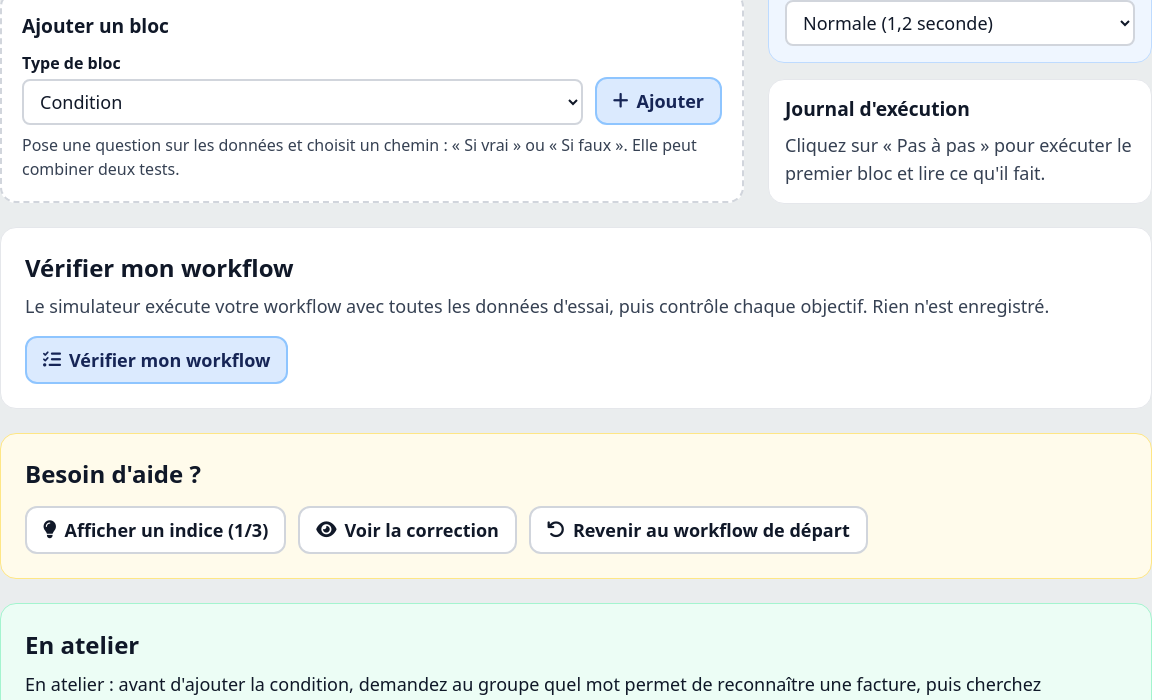
Test case: lecteur de laboratoire › indique les objectifs à revoir avec du texte, pas seulement une couleur
(page scrolled)
Click the button with test id "verifier" at coordinates (157, 360), box [25, 336, 288, 384]
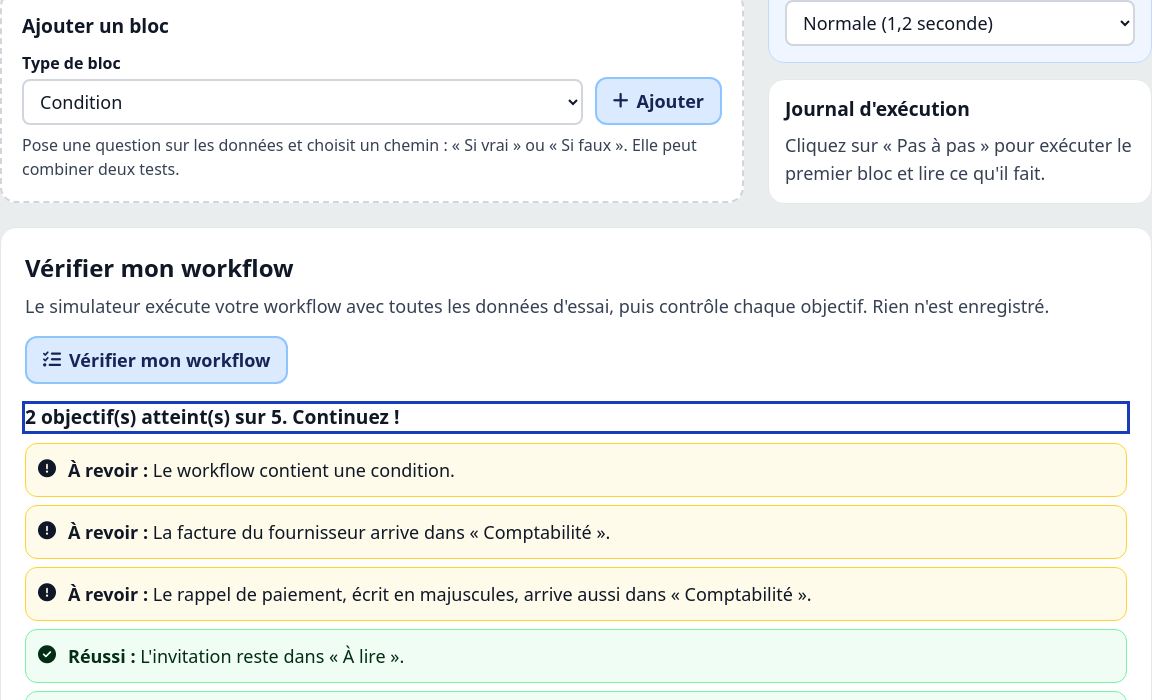
Now the list item with test id "critere-condition" shows "À revoir", box [68, 458, 148, 482]
Now the list item with test id "critere-invitation" shows "Réussi", box [68, 644, 136, 668]
Now the heading with test id "bilan" shows "2 objectif(s) atteint(s) sur 5", box [25, 403, 400, 430]
